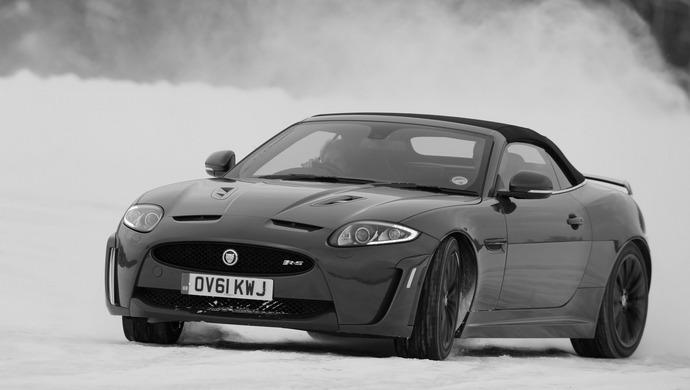car: (103, 111, 655, 362)
